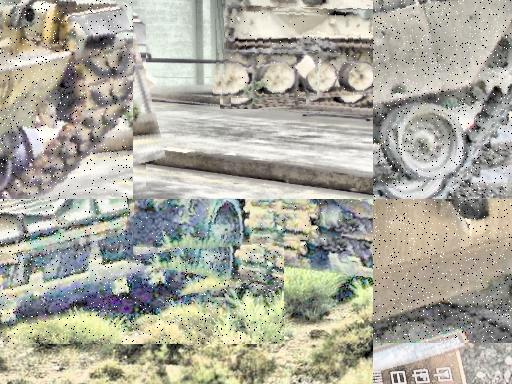tanks: (1, 200, 285, 317), (1, 1, 134, 200), (374, 1, 512, 171), (374, 200, 512, 343), (222, 1, 374, 98), (132, 200, 246, 249)
